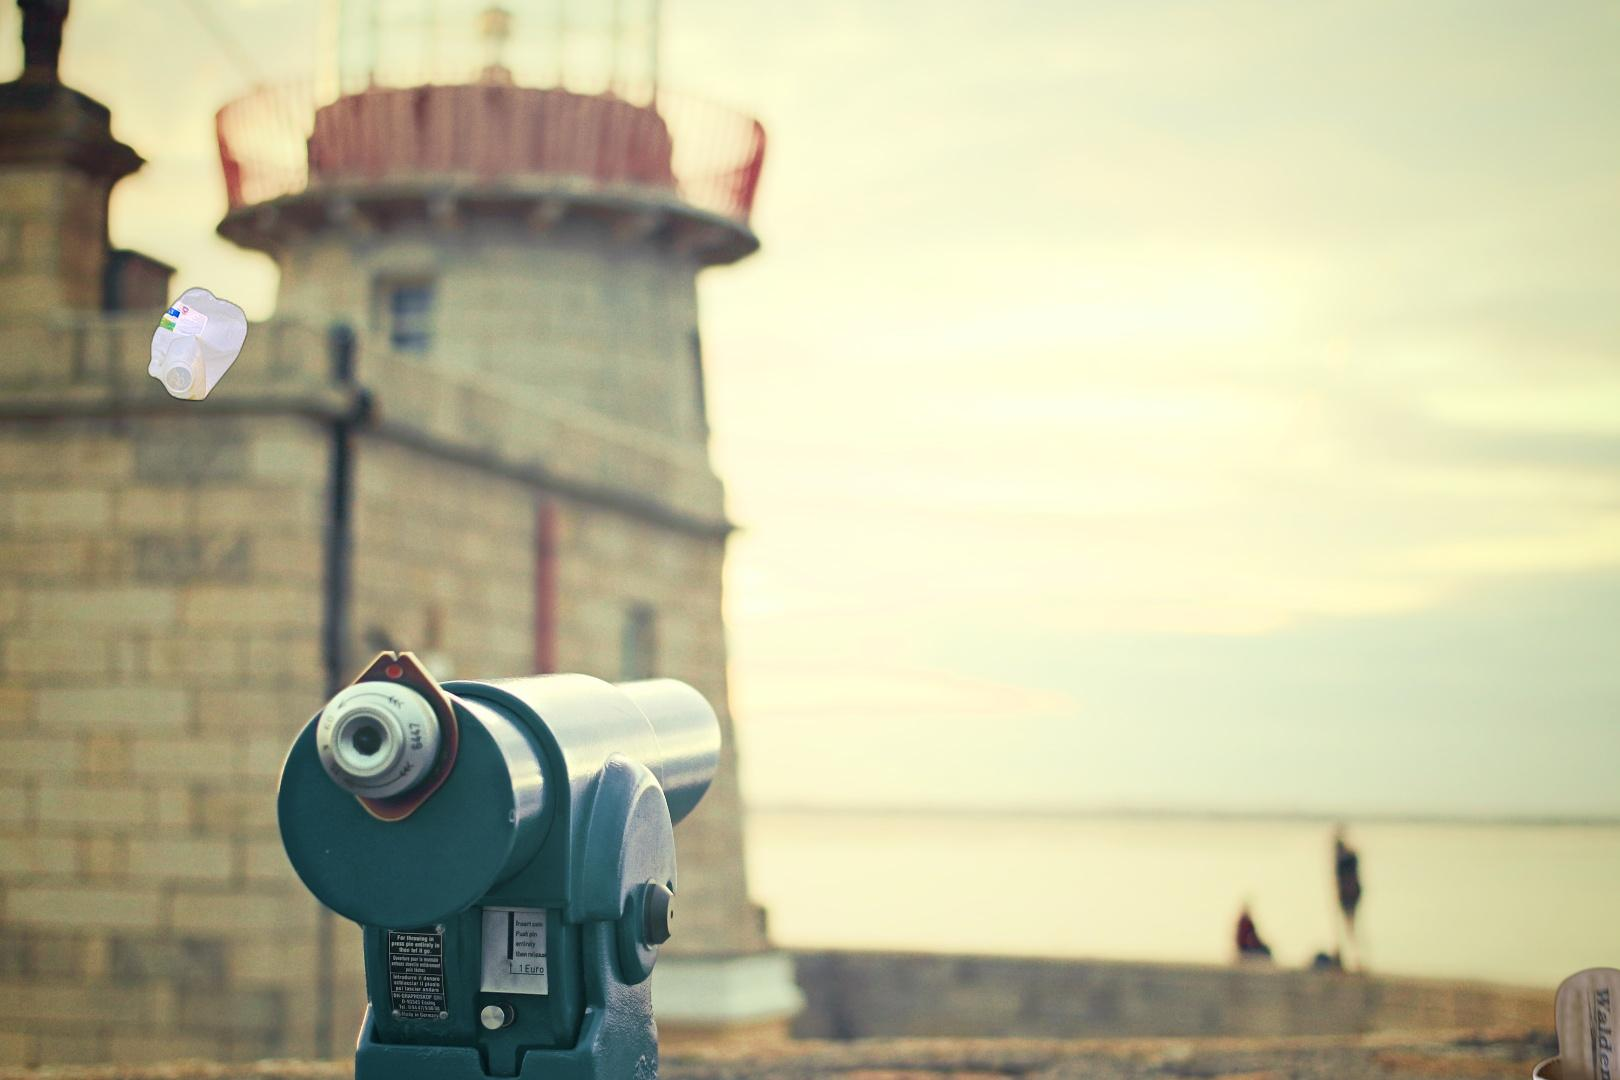plastic-bottles: (143, 281, 252, 407)
shoes: (1530, 931, 1620, 1080)
